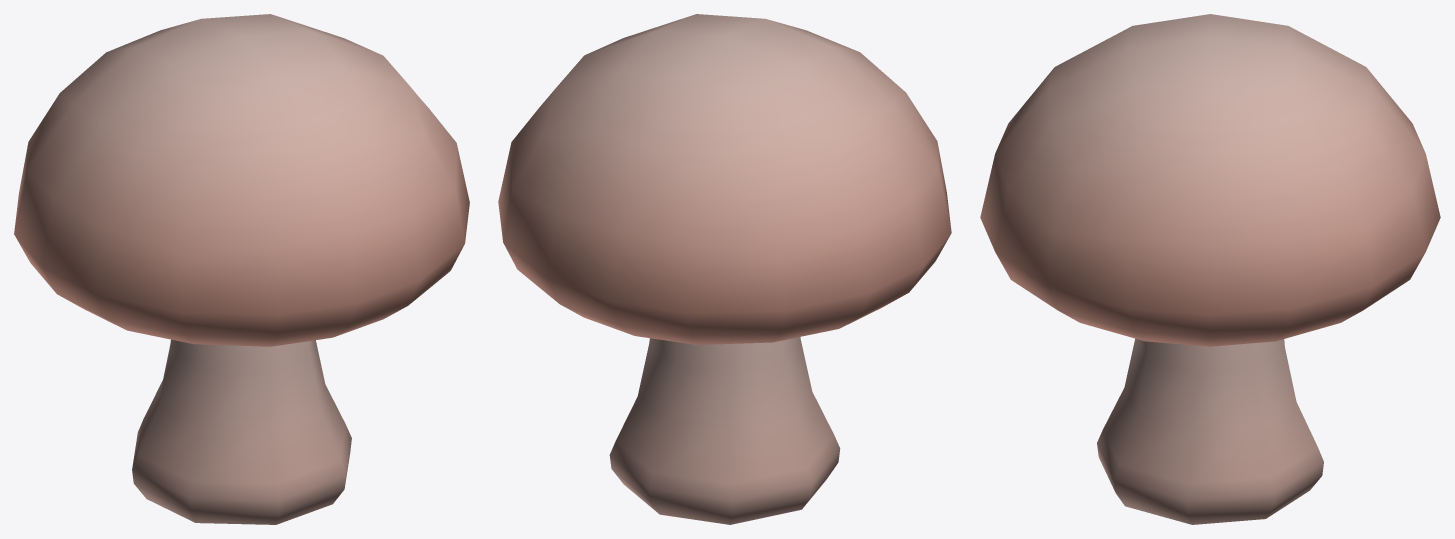
Rendered from mushroom_002.fbx.
The picture shows the model from 3 angles, left to right: view 1: azimuth 30°, elevation 25°; view 2: azimuth 150°, elevation 25°; view 3: azimuth 270°, elevation 25°; orthographic projection.
Visible parts, largest first — view 1: mushroom_002; view 2: mushroom_002; view 3: mushroom_002.
Boxes of the visible parts, left/top/right/bottom form: mushroom_002: left=14, top=14, right=469, bottom=524; mushroom_002: left=498, top=14, right=951, bottom=524; mushroom_002: left=980, top=14, right=1440, bottom=524.
Size of the model in its own units: 6.31 by 6.31 by 6.84.
